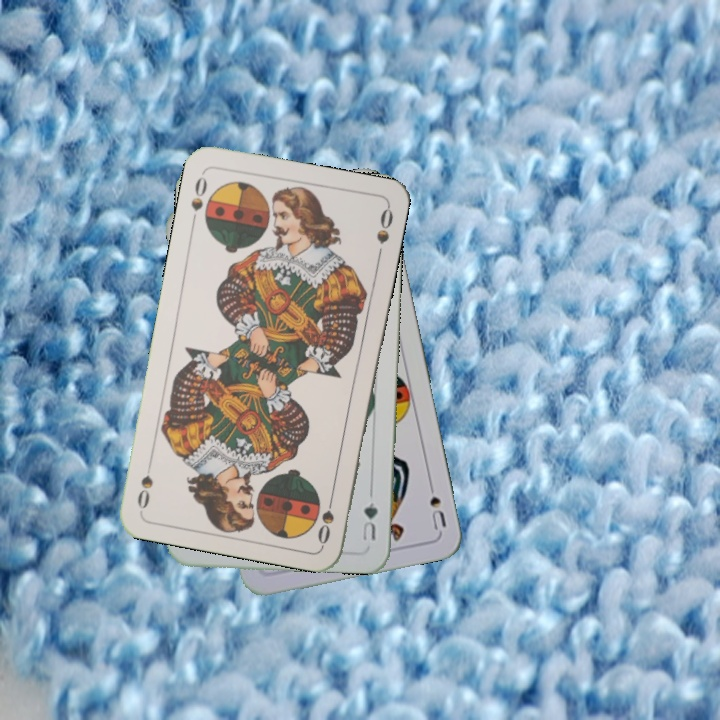GU: (358, 498, 380, 544)
SO: (313, 488, 337, 547), (187, 168, 210, 227)
SU: (424, 475, 449, 532)
